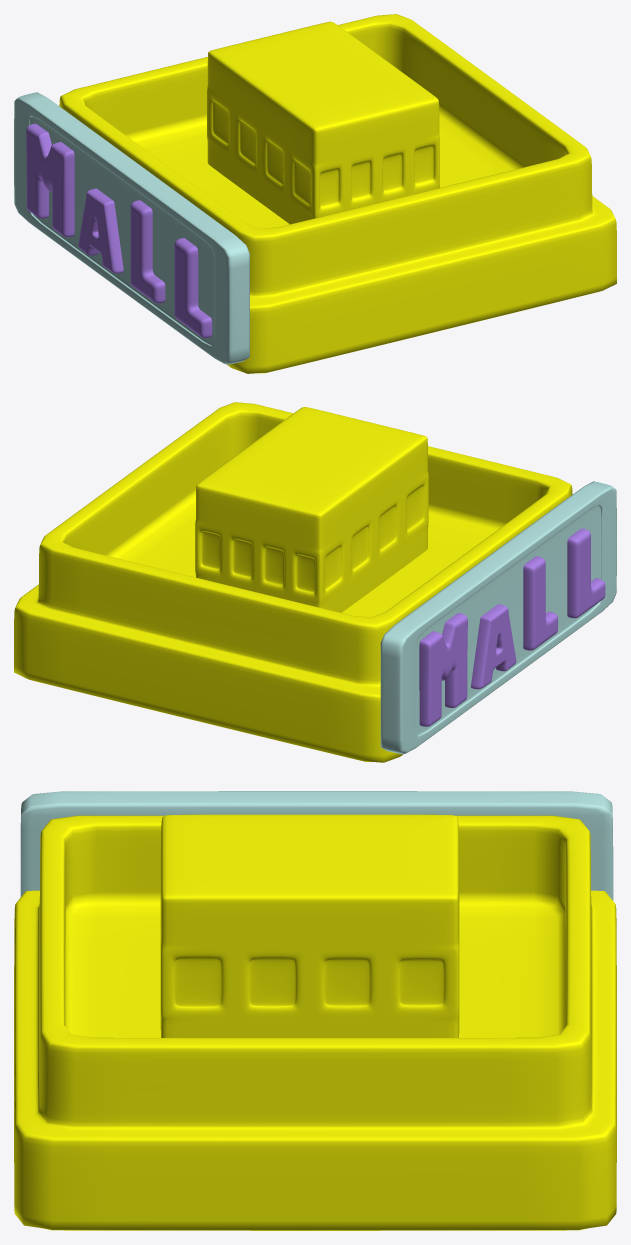
The picture shows the model from 3 angles, top to bottom: view 1: azimuth 30°, elevation 25°; view 2: azimuth 150°, elevation 25°; view 3: azimuth 270°, elevation 25°; orthographic projection. The views are drawn at different scales.
Visible parts, largest first — view 1: polySurface1159; view 2: polySurface1159; view 3: polySurface1159.
Boxes of the visible parts, left/top/right/bottom form: polySurface1159: left=14, top=14, right=616, bottom=373; polySurface1159: left=14, top=402, right=616, bottom=762; polySurface1159: left=14, top=791, right=616, bottom=1230.
Size of the model in its own units: 1.05 by 0.4637 by 0.9997.
